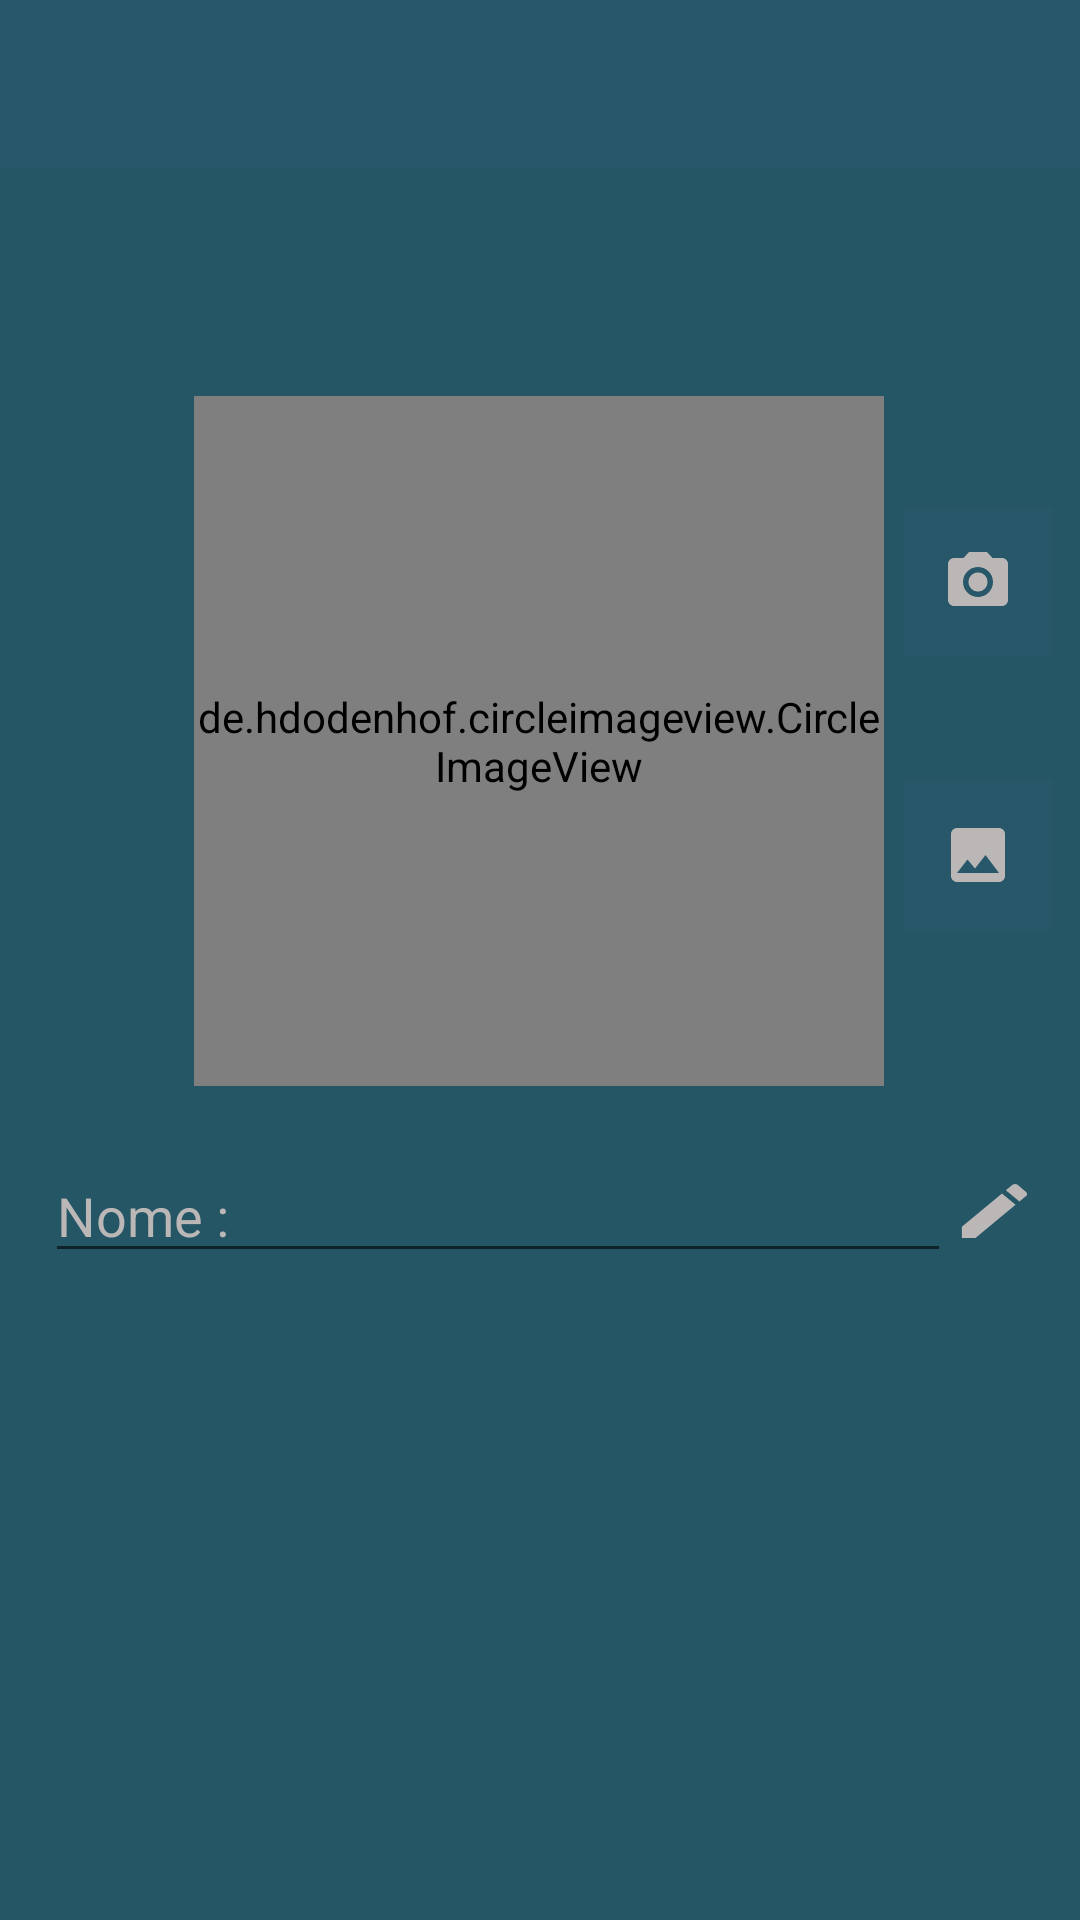

Icon bounding boxes for this 1080px x 1920px phone screenshot, format (x1,y1,x2,y2):
edit: (962,1184,1027,1238)
photo: (951,828,1005,882)
photo camera: (948,552,1008,606)
